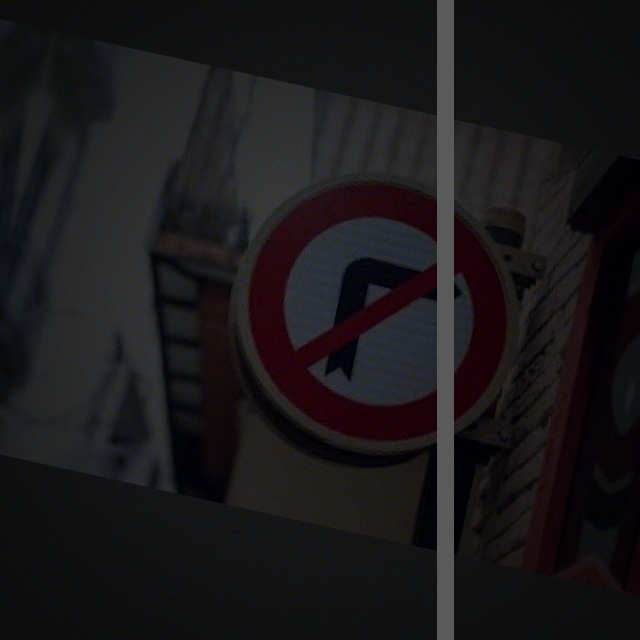Right_Turn_Prohibited: (208, 150, 539, 491)
